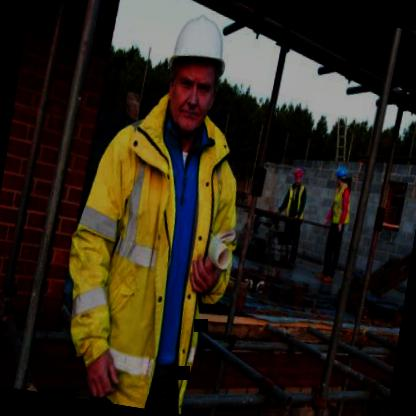helmet: (150, 2, 240, 140), (288, 160, 307, 190), (330, 162, 350, 190)
